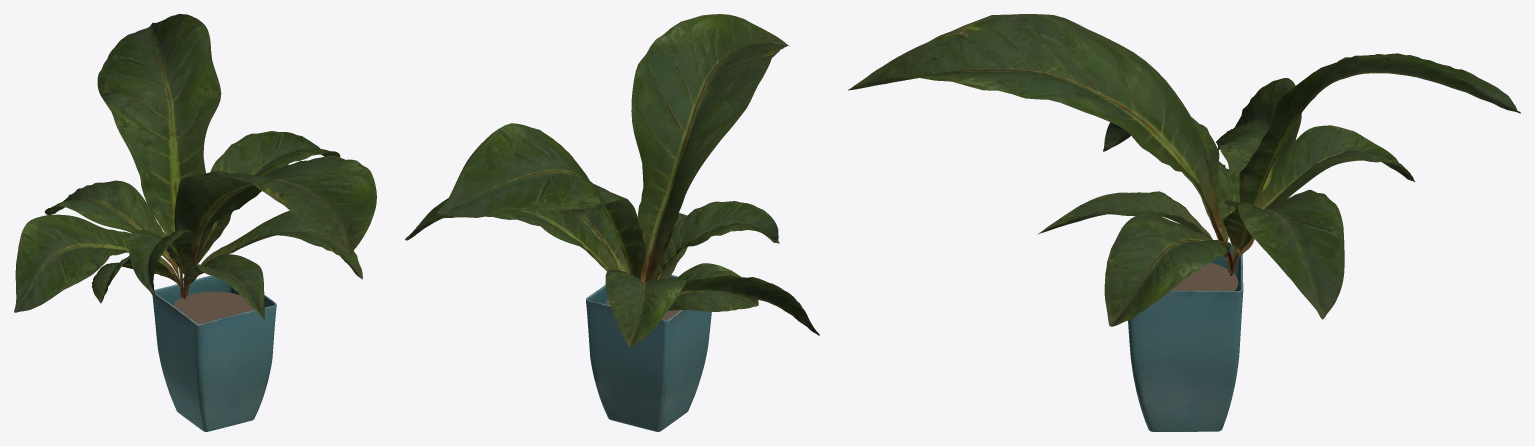
File: ph-anthurium-tall.glb
3 views of the same model, side by side, from view 1: azimuth 30°, elevation 25°; view 2: azimuth 150°, elevation 25°; view 3: azimuth 270°, elevation 25° (orthographic). The views are drawn at different scales.
Parts seen in each view (by area): view 1: anthurium_botany_01_a, Ecoforms_Plant_Container_Quadra_Turquoise_QP12, soil; view 2: anthurium_botany_01_a, Ecoforms_Plant_Container_Quadra_Turquoise_QP12; view 3: anthurium_botany_01_a, Ecoforms_Plant_Container_Quadra_Turquoise_QP12, soil.
Boxes of the visible parts, x1,y1,x2,y2 form: anthurium_botany_01_a: (14, 14, 376, 320); Ecoforms_Plant_Container_Quadra_Turquoise_QP12: (152, 275, 276, 431); soil: (172, 291, 254, 324); anthurium_botany_01_a: (405, 14, 819, 346); Ecoforms_Plant_Container_Quadra_Turquoise_QP12: (586, 275, 711, 431); anthurium_botany_01_a: (848, 14, 1520, 326); Ecoforms_Plant_Container_Quadra_Turquoise_QP12: (1128, 243, 1243, 431); soil: (1171, 262, 1238, 290).
Bounding box in the file's own units: 0.8963 × 0.7523 × 1.14.
3 materials, 2 textured.
